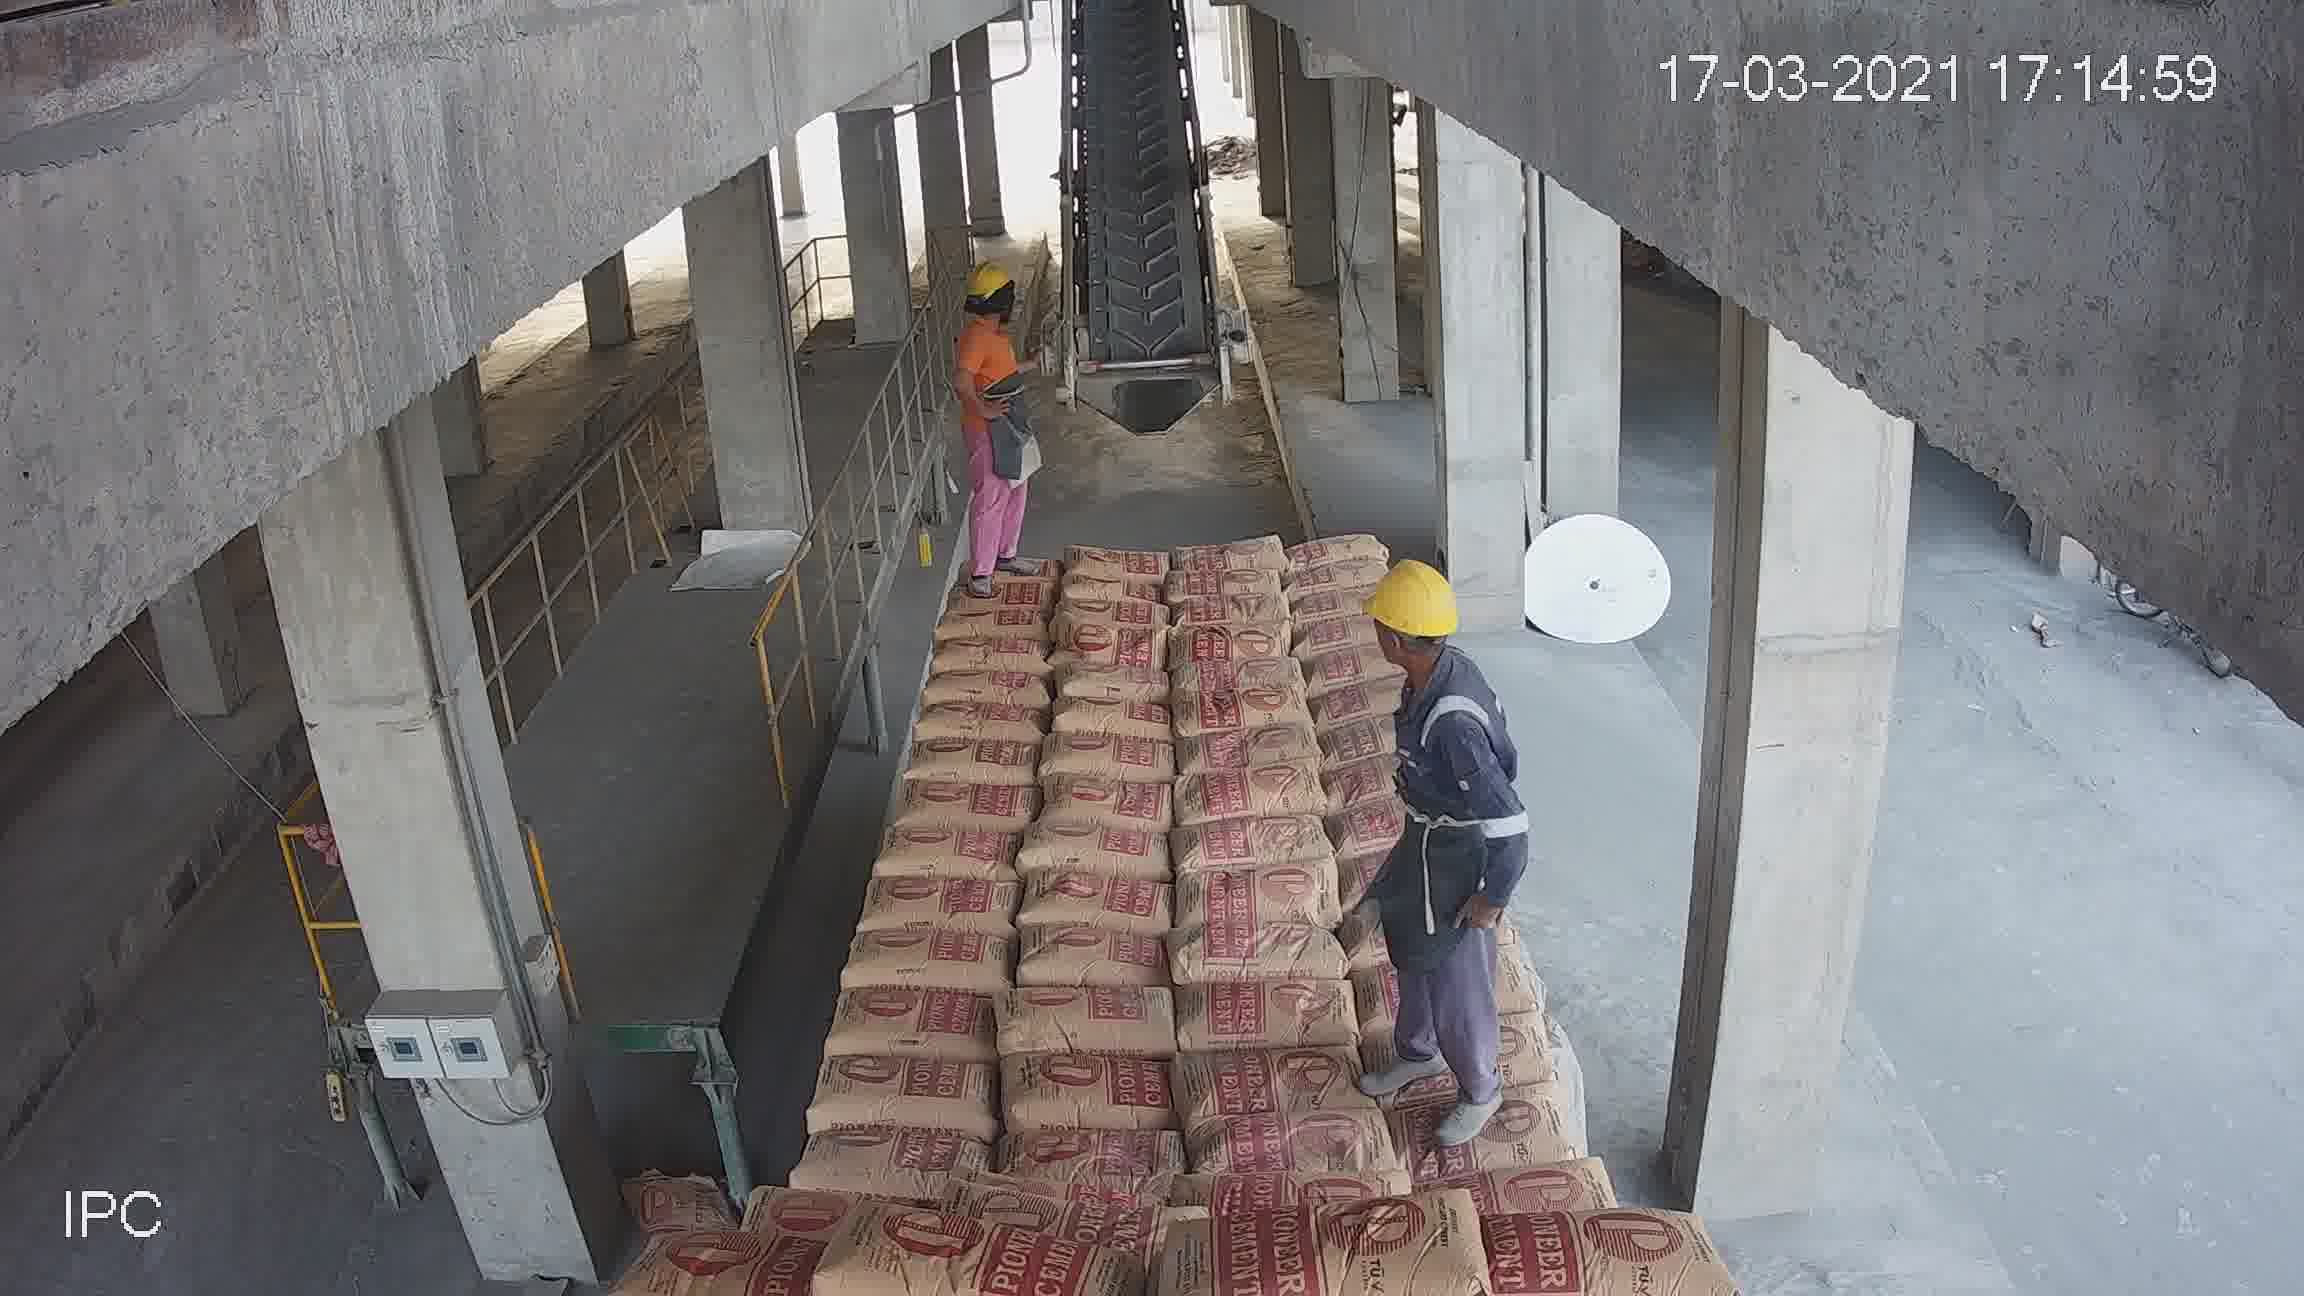bag_h: (1199, 1209, 1499, 1296), (805, 1218, 1120, 1296), (1383, 1076, 1559, 1198), (1446, 1214, 1706, 1296), (1185, 1044, 1374, 1135), (1199, 1109, 1402, 1192), (635, 1222, 855, 1294), (809, 1057, 1008, 1136), (1174, 975, 1366, 1051), (1002, 986, 1188, 1062), (828, 981, 1003, 1060), (1014, 1051, 1185, 1128), (1173, 923, 1359, 992), (855, 872, 1029, 946), (995, 1122, 1187, 1188), (790, 1127, 991, 1185), (1435, 1161, 1616, 1226), (839, 927, 1014, 994), (1177, 862, 1337, 934), (1179, 756, 1337, 828), (1021, 817, 1169, 888), (1177, 810, 1329, 877), (1016, 932, 1177, 991), (1022, 873, 1180, 932), (1044, 772, 1184, 836), (892, 782, 1041, 837), (905, 734, 1048, 791), (910, 696, 1059, 745), (875, 831, 1014, 881), (1179, 723, 1318, 772), (1171, 655, 1302, 703), (915, 665, 1051, 709), (1051, 739, 1177, 786), (1067, 612, 1166, 673), (924, 636, 1067, 677), (1060, 657, 1176, 707), (1180, 687, 1310, 731), (1052, 699, 1168, 747), (930, 604, 1055, 646), (1166, 619, 1287, 661), (942, 578, 1051, 620), (1283, 560, 1389, 601), (1165, 568, 1283, 604), (1068, 543, 1173, 584), (1293, 529, 1393, 571), (1169, 529, 1294, 562), (1173, 592, 1290, 627), (1059, 598, 1176, 633), (1055, 573, 1166, 606)
belt: (1057, 2, 1217, 396)
